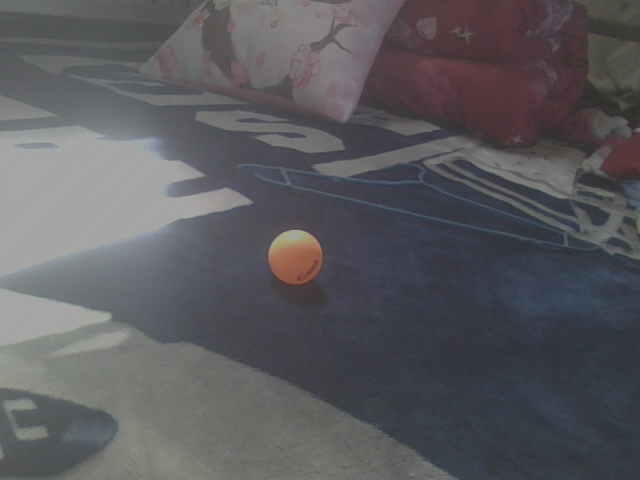ball: (269, 228, 322, 286)
